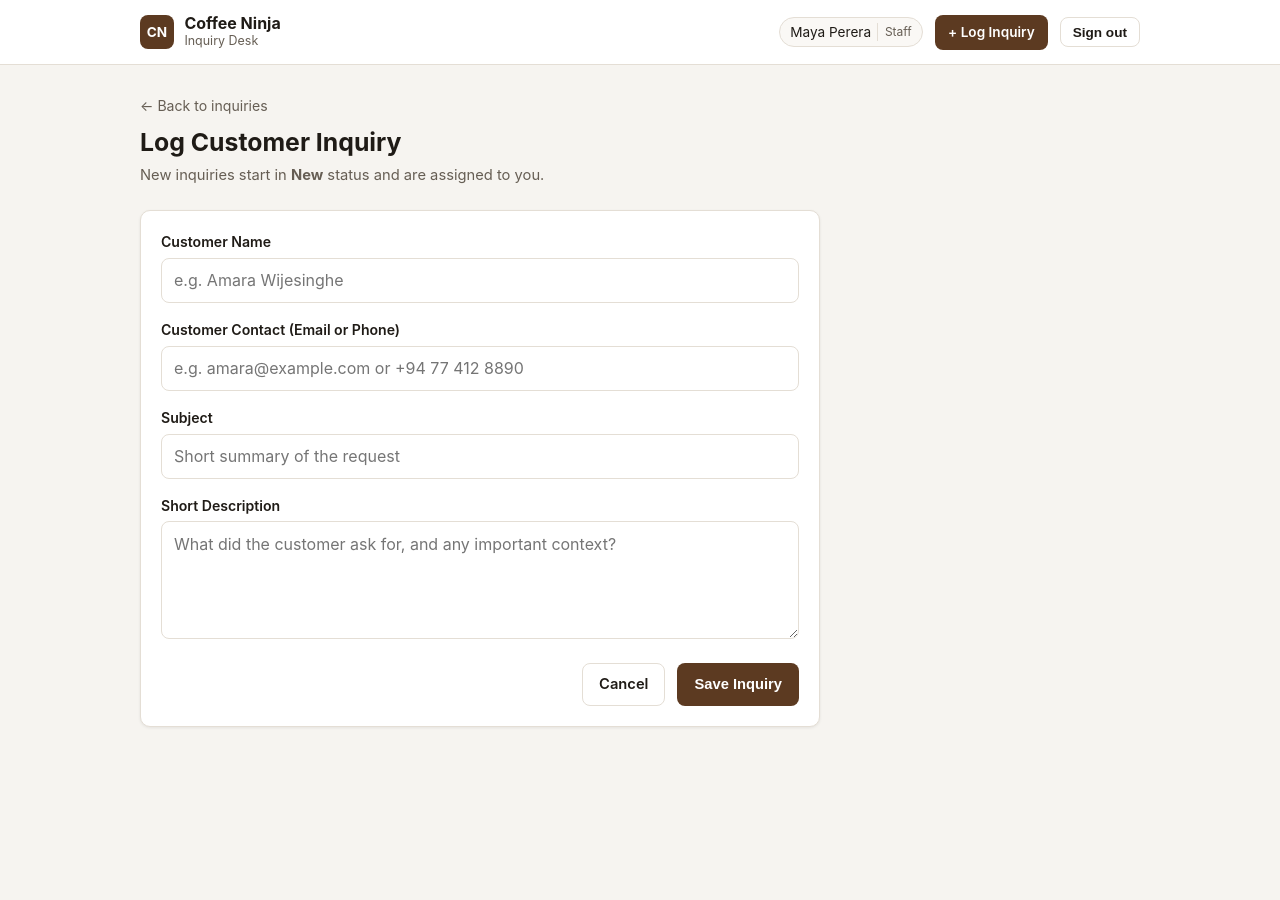
Scenario: Customer Inquiry UI › guides the user with inline validation before submitting and preserves input on error
The image size is (1280, 900).
Click the button "Save Inquiry": coordinates (738, 684) [678,663,799,706]
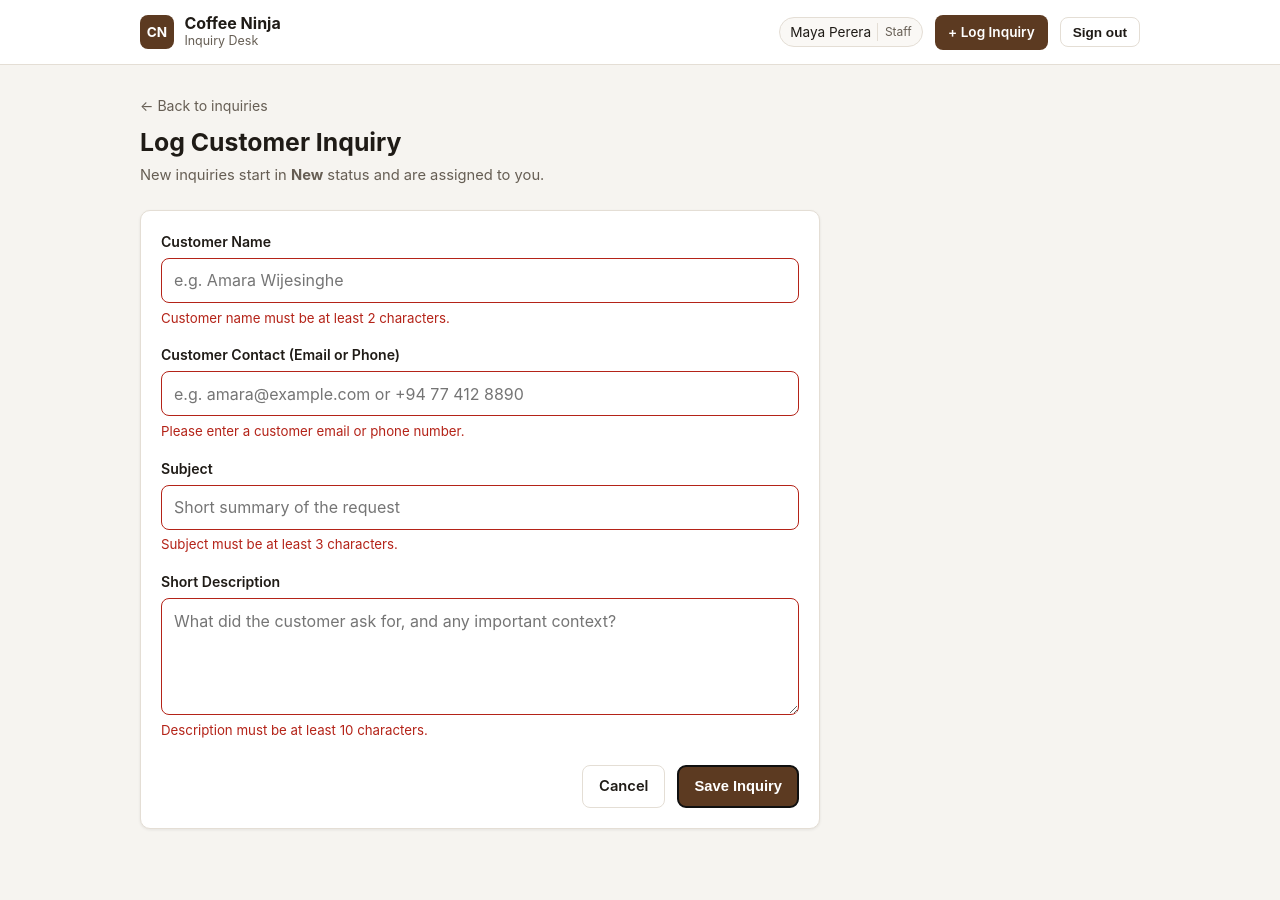
Now the text "Customer name must be at least 2 characters." is shown, box [161,310,450,326]
Now the text "Please enter a customer email or phone number." is shown, box [161,423,465,439]
Note: Fill valid values and receive server-side 409 DUPLICATE_INQUIRY
In the field labelled "Customer Name": coordinates (480, 280) [161,258,799,303], type "Amara Wijesinghe"
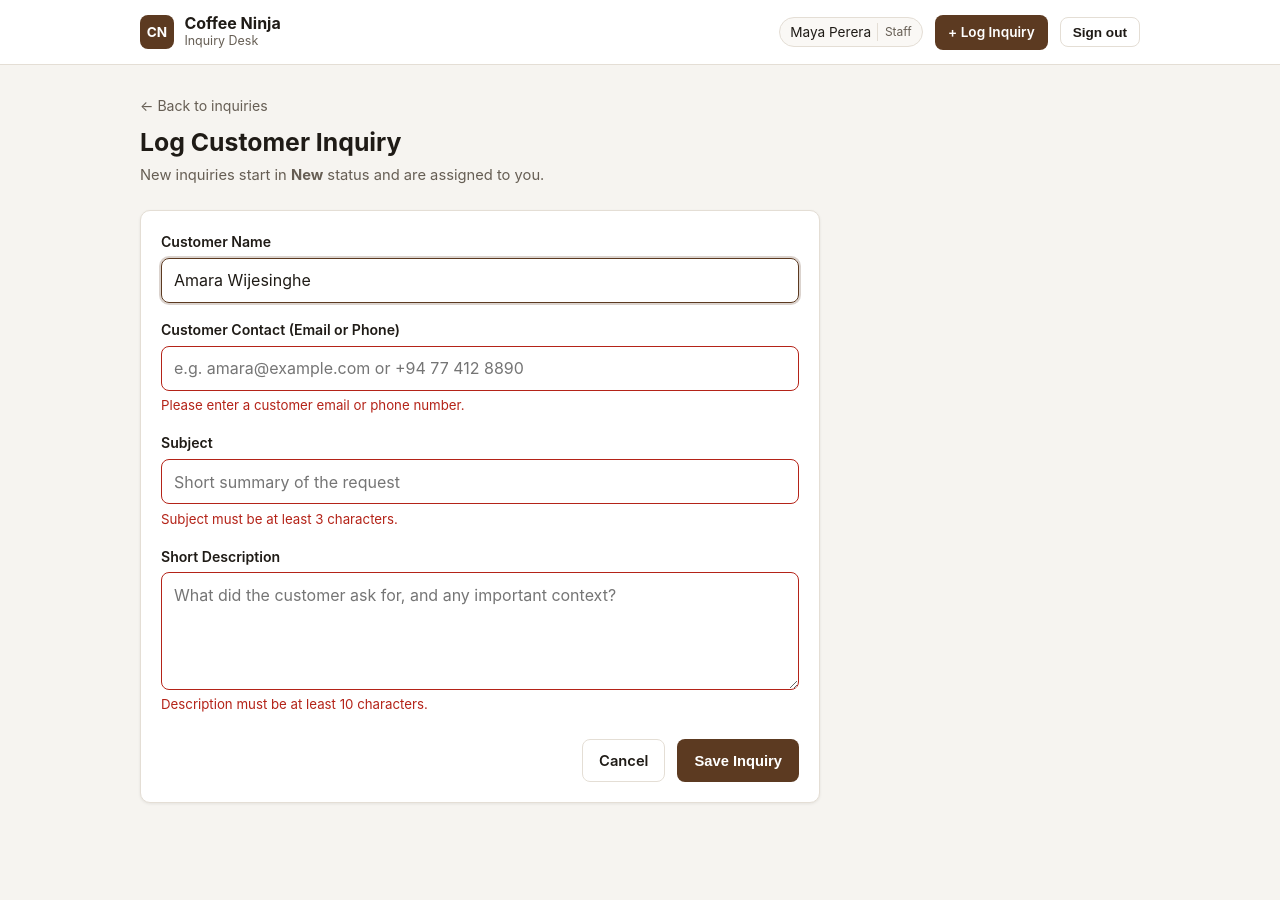
In the field labelled "Customer Contact (Email or Phone)": coordinates (480, 368) [161,346,799,391], type "amara@example.com"
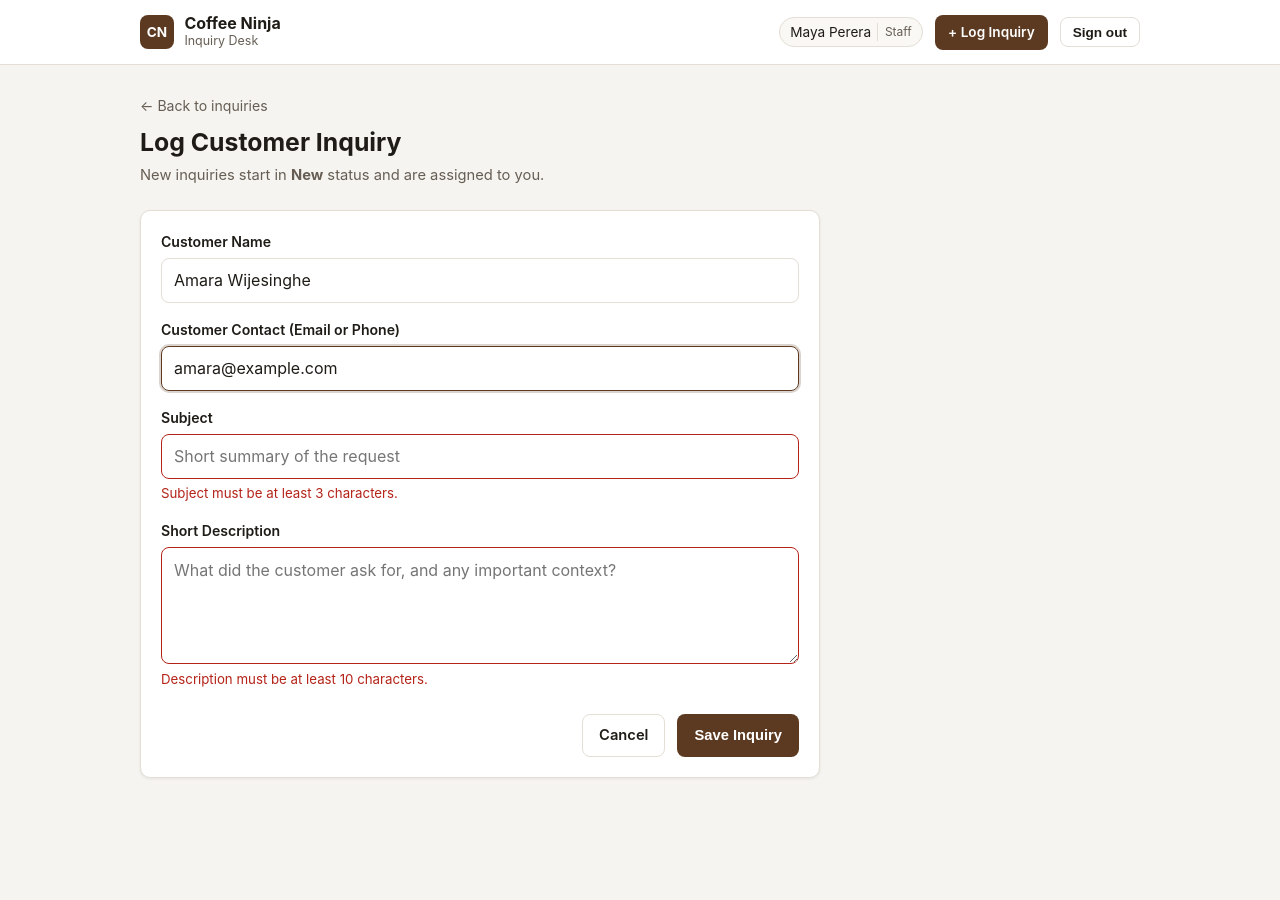
In the field labelled "Subject": coordinates (480, 456) [161,434,799,479], type "Invoice correction"
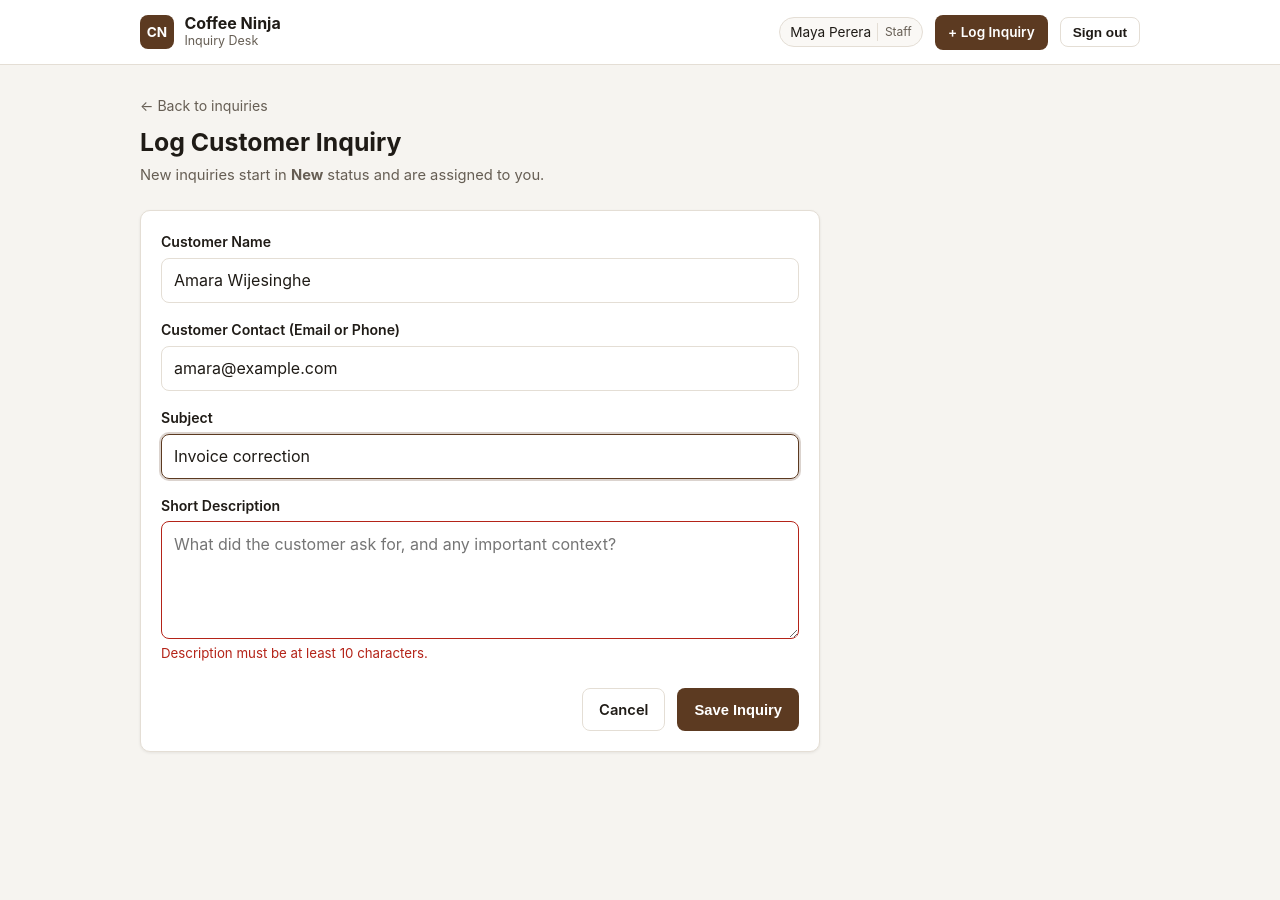
In the text box labelled "Short Description": coordinates (480, 580) [161,521,799,639], type "Need updated billing address on invoice."
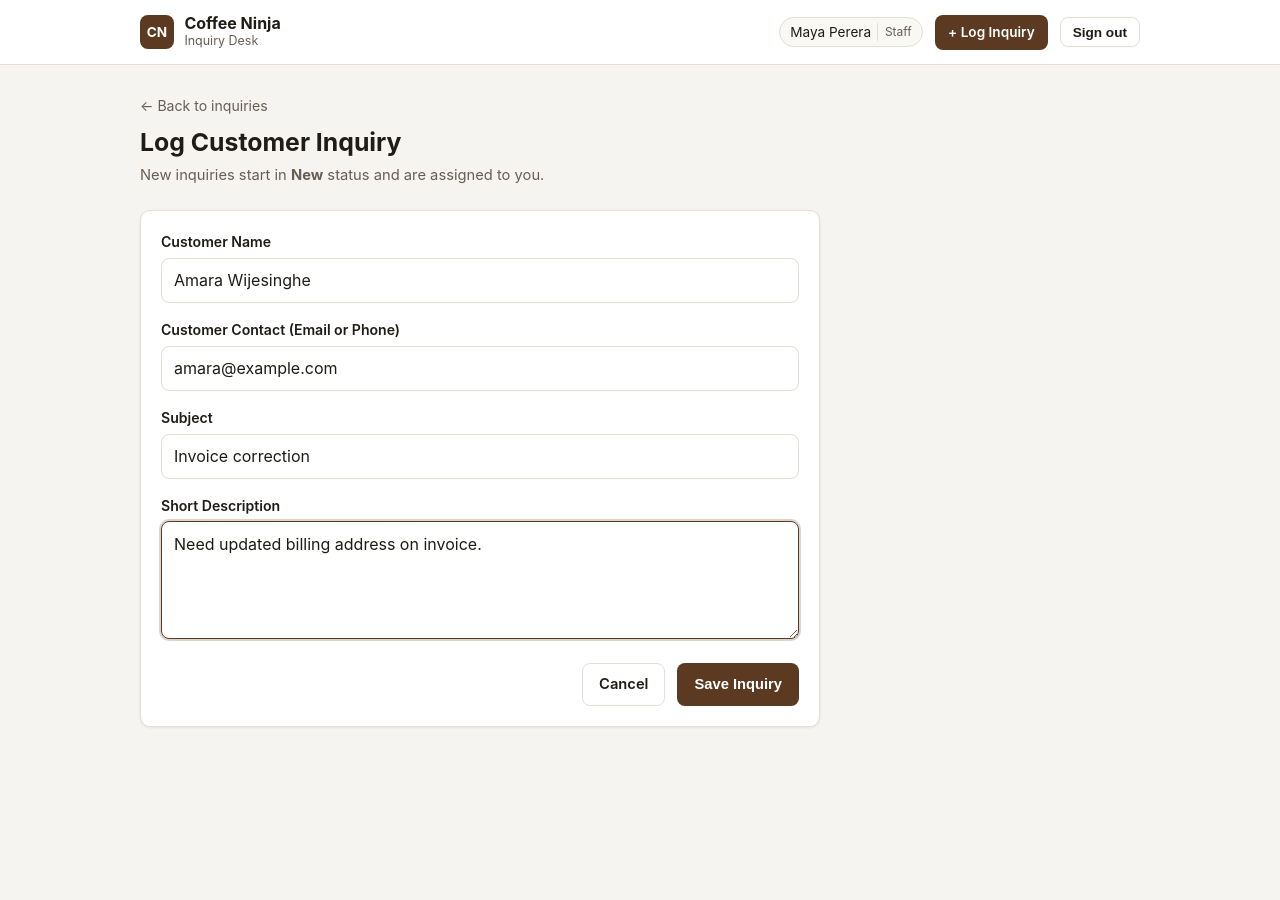
Click the button "Save Inquiry": coordinates (738, 684) [678,663,799,706]
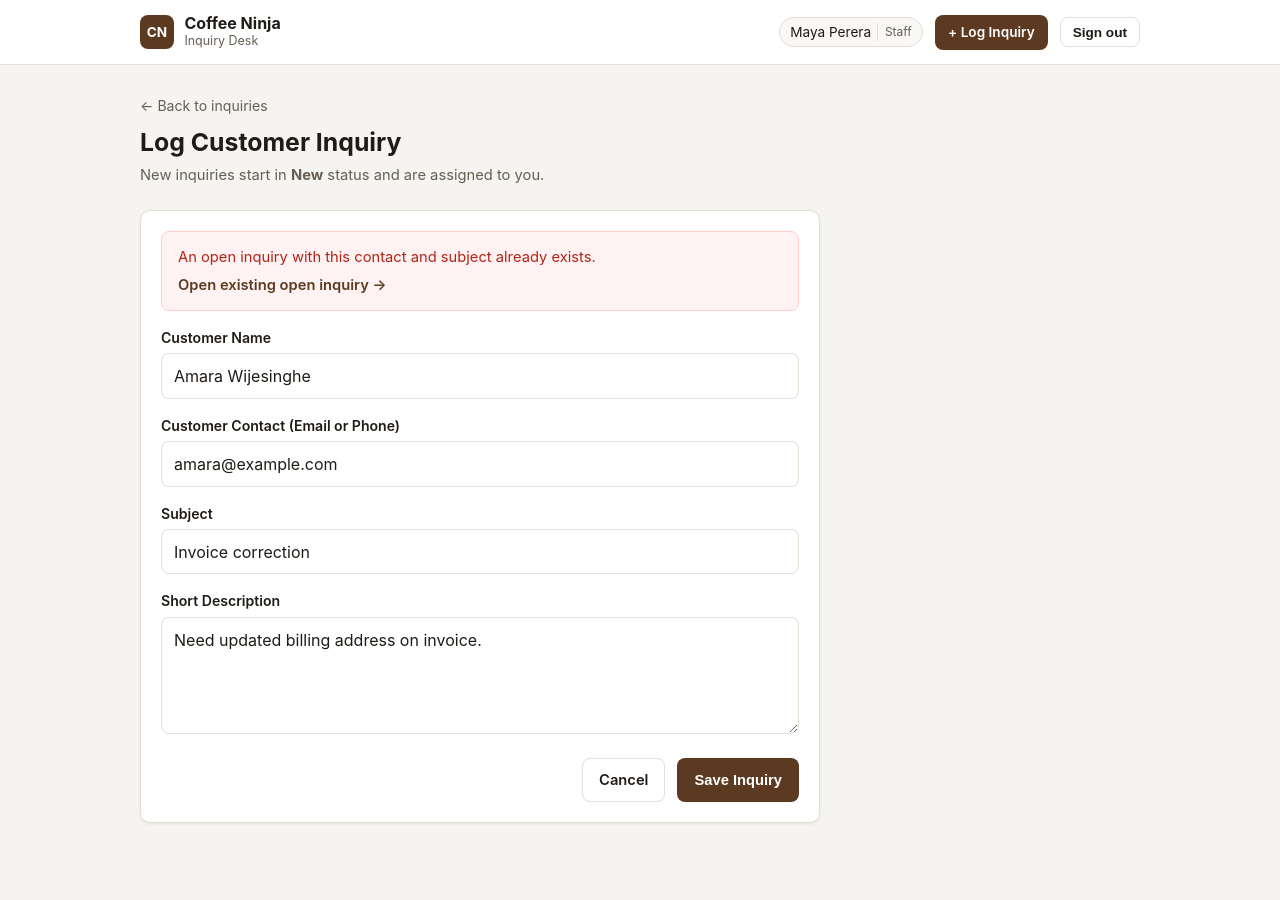
Now the text "An open inquiry with this contact and subject already exists" is shown, box [178,248,596,266]
